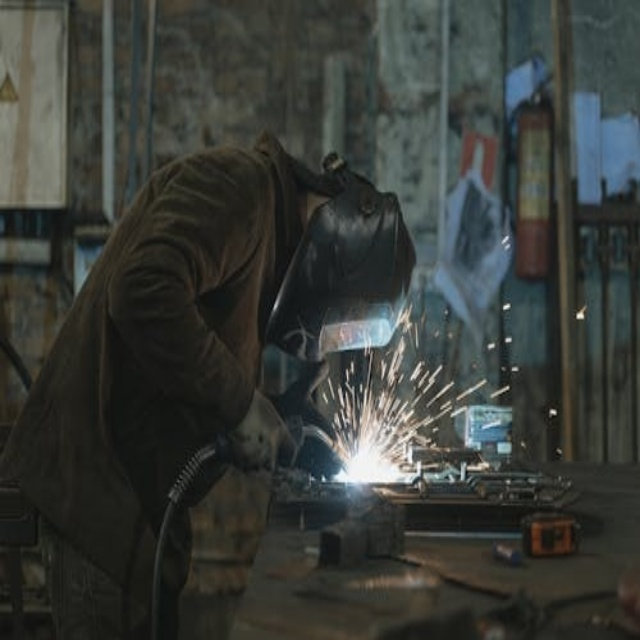Guantes: (225, 384, 300, 475)
